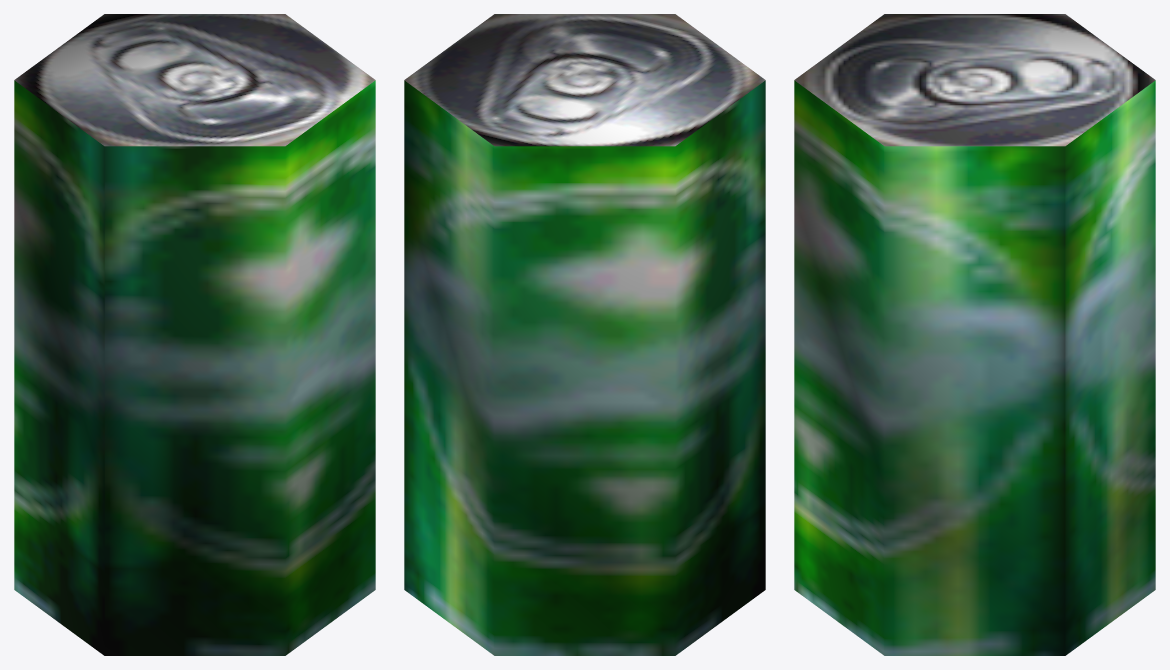
File: can_4.glb
The picture shows the model from 3 angles, left to right: view 1: azimuth 30°, elevation 25°; view 2: azimuth 150°, elevation 25°; view 3: azimuth 270°, elevation 25°; orthographic projection.
Visible parts, largest first — view 1: Can_4; view 2: Can_4; view 3: Can_4.
Part boxes in pixels (box(x1,y1,x2,y2)): Can_4: box(14, 14, 375, 655); Can_4: box(404, 14, 765, 655); Can_4: box(794, 14, 1155, 655).
Size of the model in its own units: 0.1956 by 0.3512 by 0.2259.
Materials: 1 (1 with a texture image).
